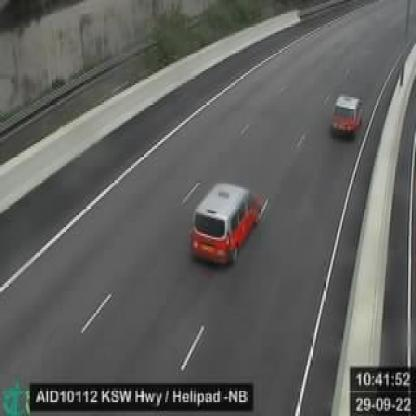Car: (183, 180, 264, 265), (325, 89, 369, 140)
